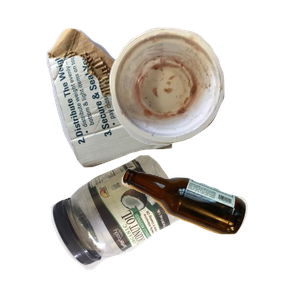cardboard: (44, 26, 209, 186)
glass: (119, 166, 300, 300)
plastic: (48, 152, 228, 300)
trash: (107, 25, 300, 162)
